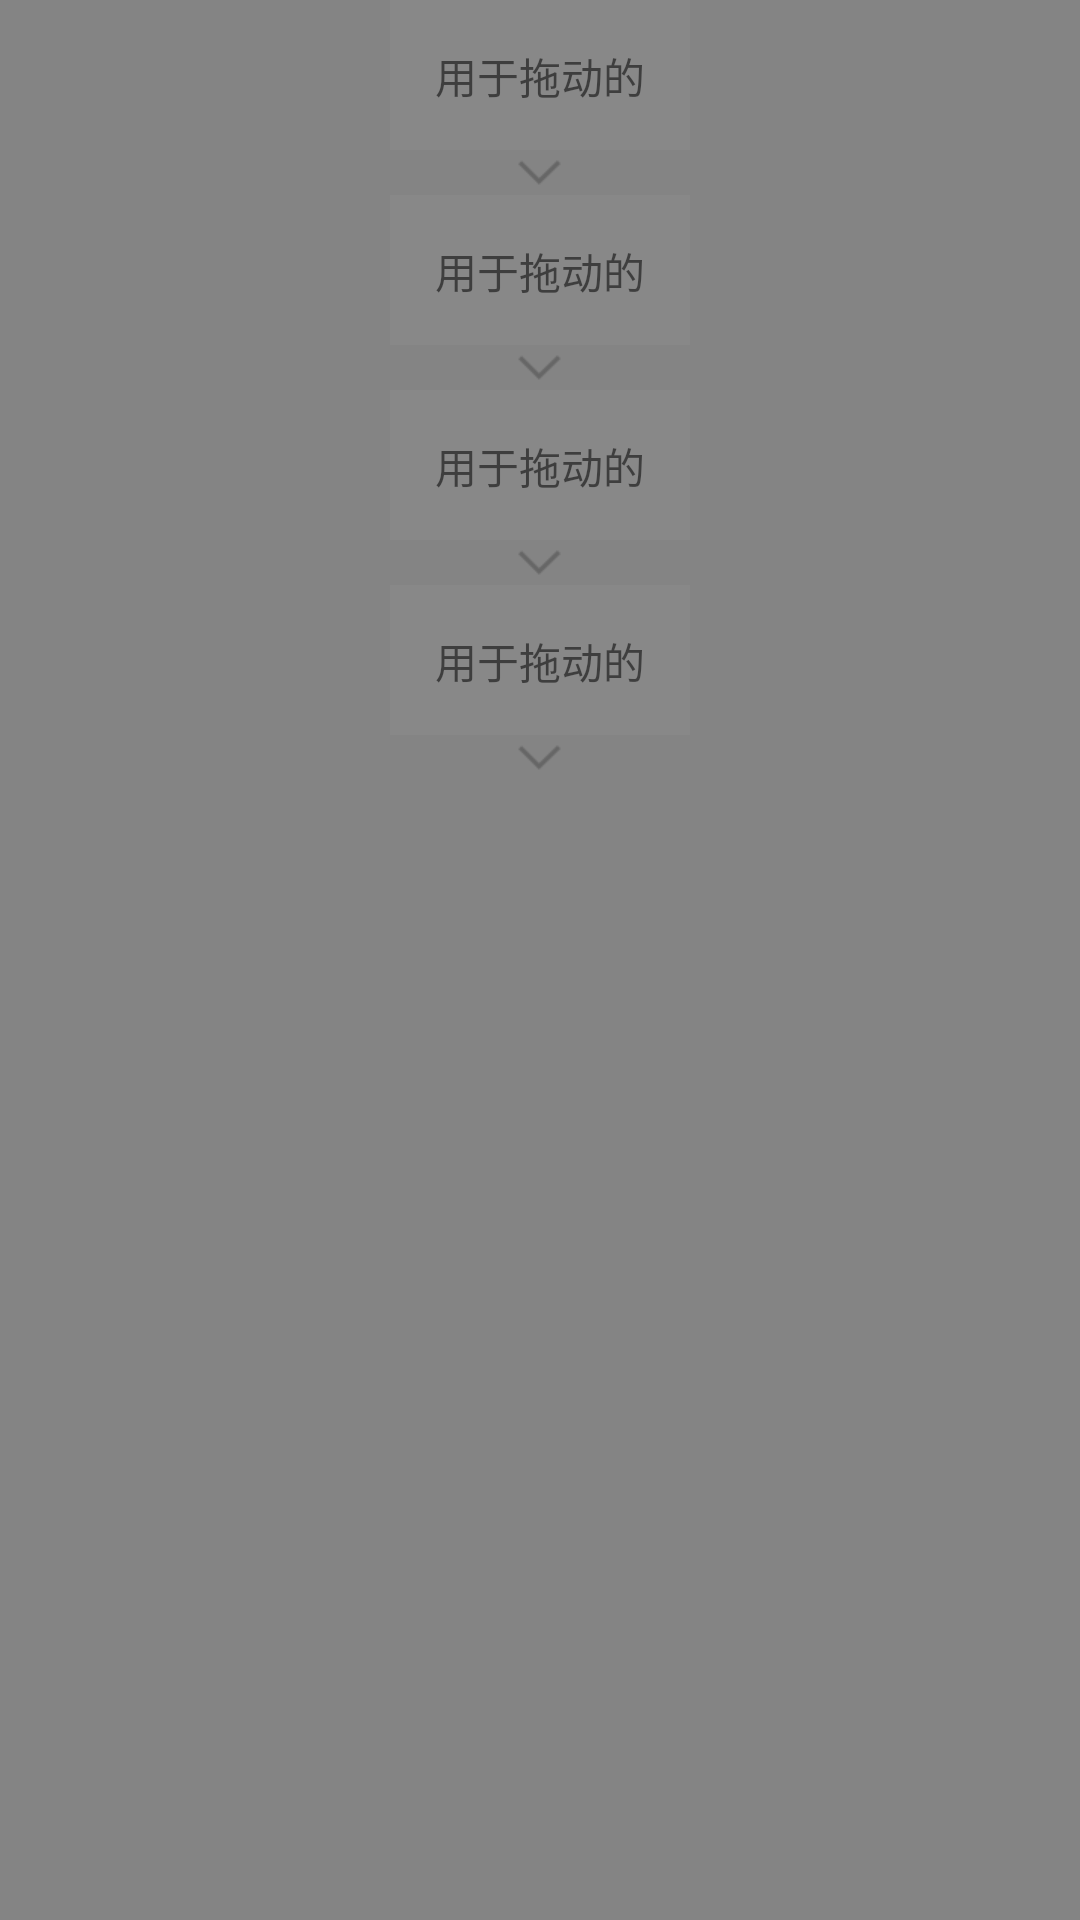

Screen size 1080×1920. Icon name, then its center in pixels as [x,y]:
arrow down: [539,172], [539,367], [539,562], [539,757]
